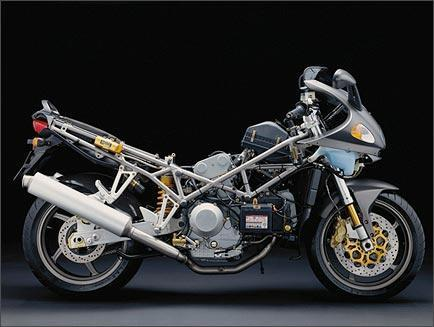motorcycle: (5, 54, 434, 309)
